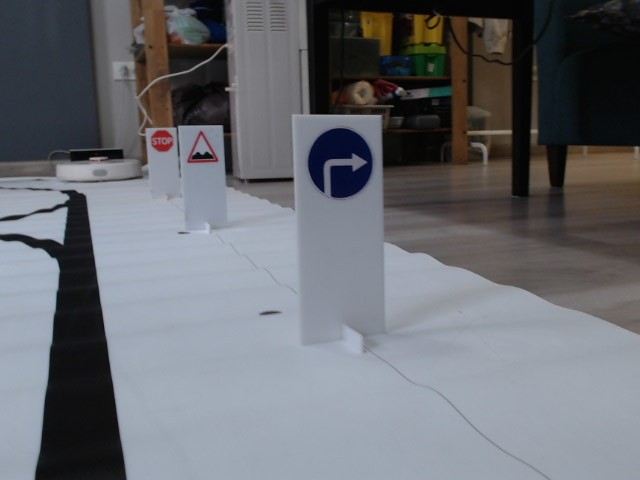Nerov: (185, 130, 219, 164)
Right: (305, 126, 375, 201)
Stop: (151, 130, 174, 152)
